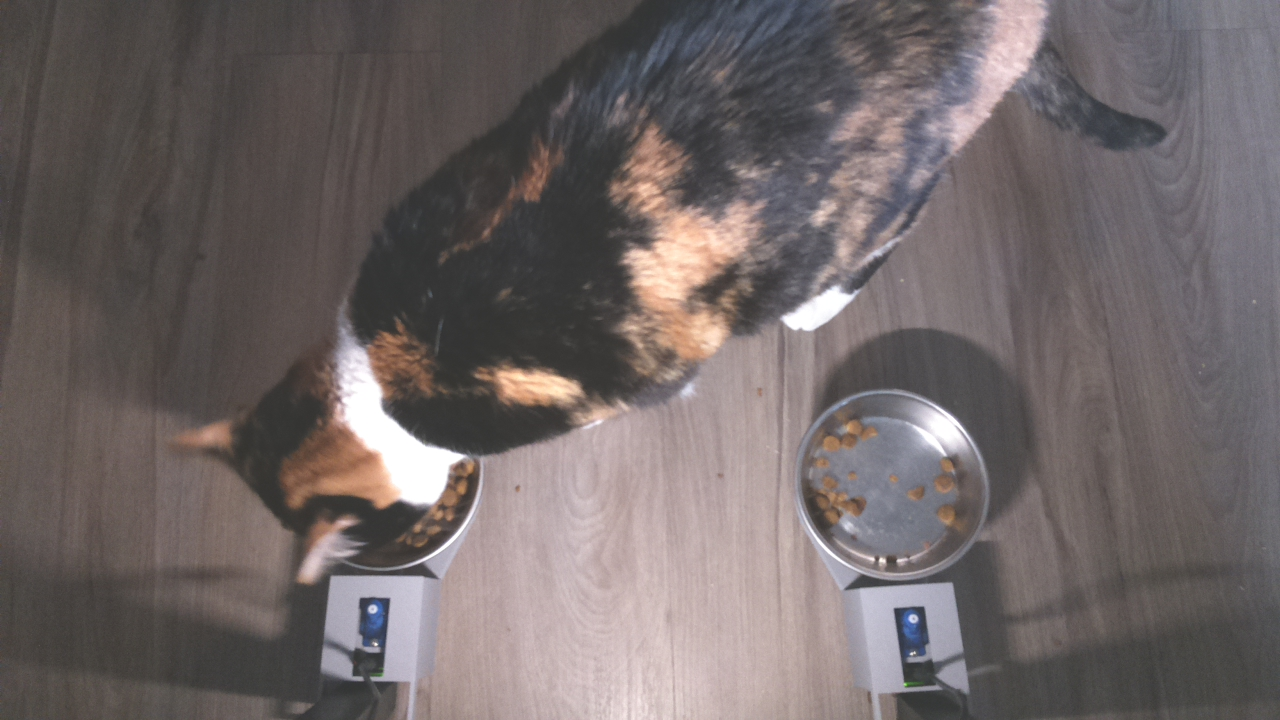bella_eating: (170, 296, 485, 594)
open_bowl: (795, 390, 994, 586)
